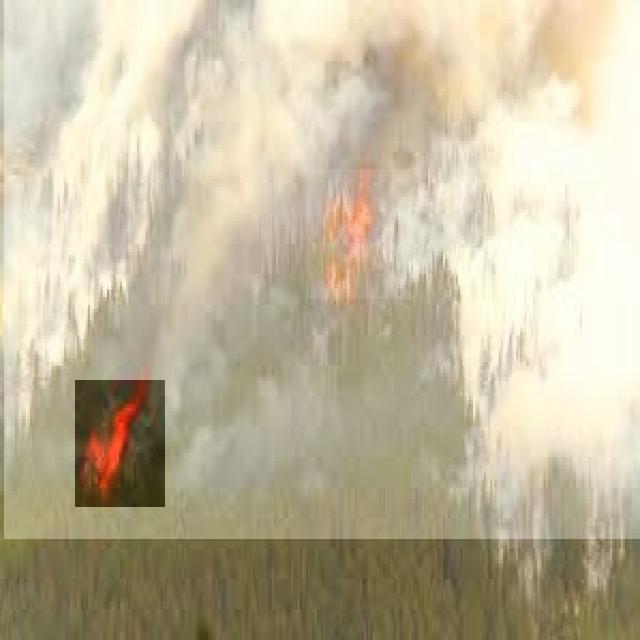Fire: (306, 170, 411, 300), (76, 380, 166, 507)
Smoke: (4, 0, 640, 539)
